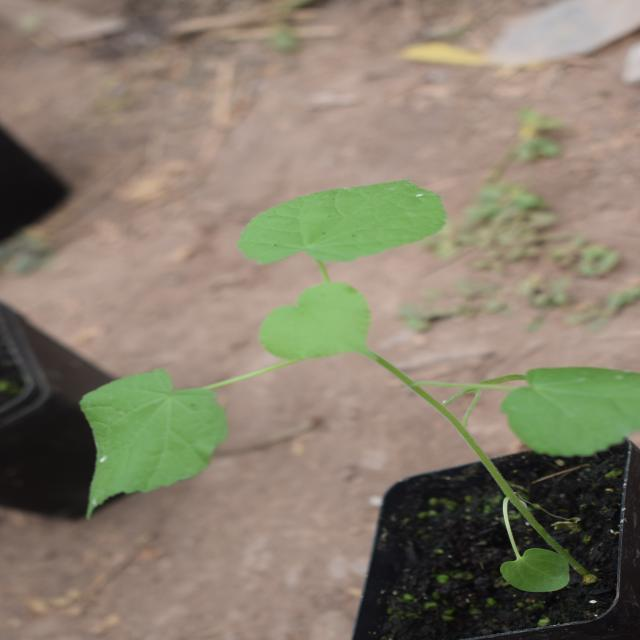abutilon theophrasti: (93, 55, 481, 521)
